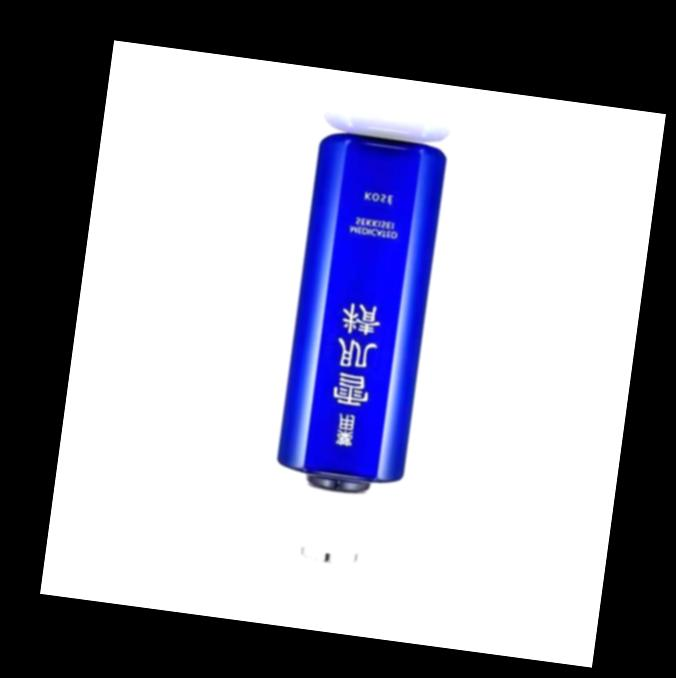cosmetic: (262, 128, 455, 568)
